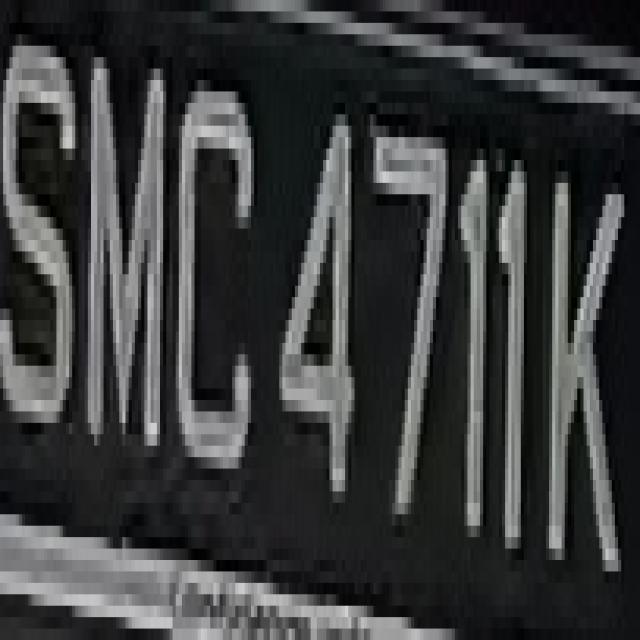1: (446, 114, 486, 583), (493, 137, 530, 583)
4: (276, 80, 364, 503)
7: (367, 92, 452, 537)
C: (163, 46, 261, 480)
K: (540, 114, 630, 640)
M: (78, 34, 170, 492)
S: (3, 23, 79, 457)
